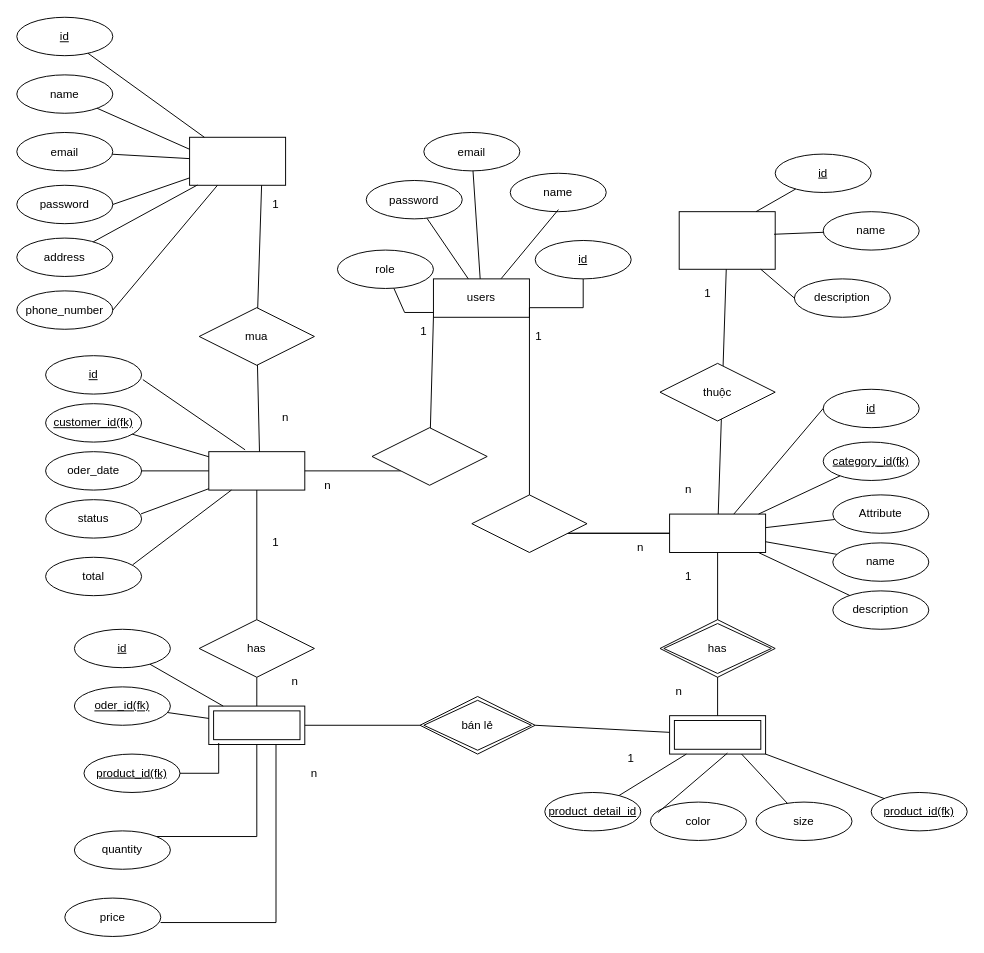
Some shapes in this 984 by 953 pixel diagram are drawn without their labels. The box of each missing label's shape, as (x1, y1, x2, y2) in pixels:
categories: (678, 211, 775, 269)
customers: (189, 136, 286, 185)
oder_details: (208, 705, 305, 744)
oders: (208, 451, 305, 490)
product_detail: (669, 715, 766, 754)
products: (669, 513, 766, 552)
quản lý: (471, 494, 587, 552)
xử lý: (371, 427, 487, 485)
